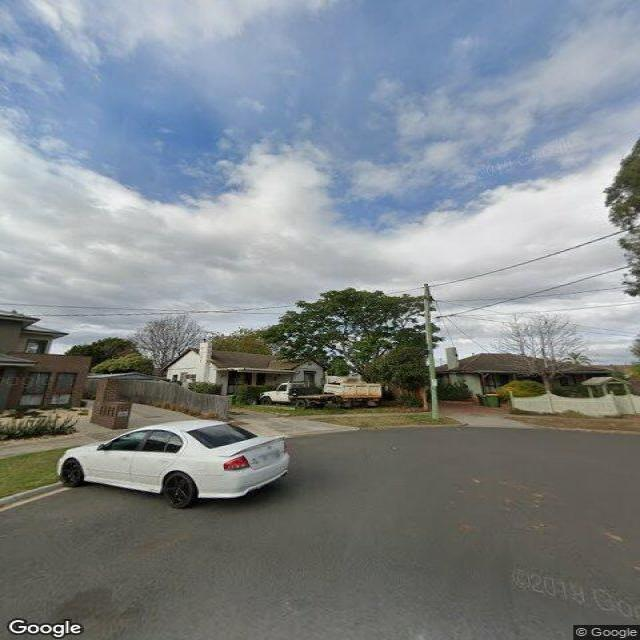timber-pole: (423, 283, 439, 420)
